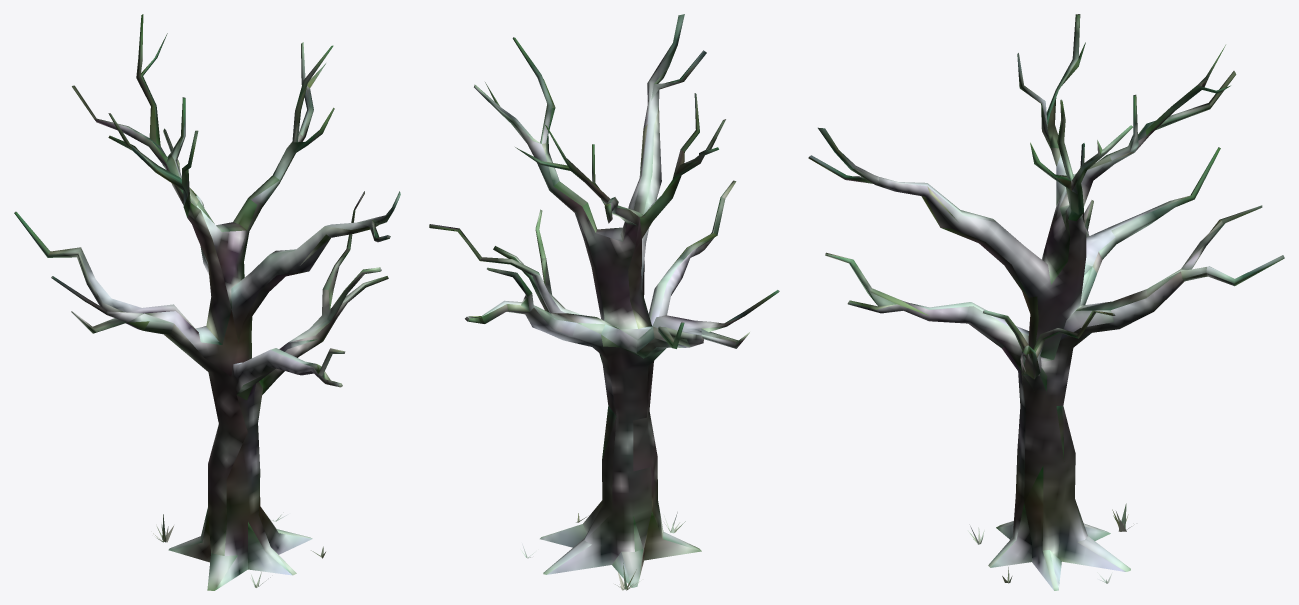
The model's file is world-tree-winter.glb.
3 renders of one model, left to right at view 1: azimuth 30°, elevation 25°; view 2: azimuth 150°, elevation 25°; view 3: azimuth 270°, elevation 25°, orthographic. The views are drawn at different scales.
Parts seen in each view (by area): view 1: model; view 2: model; view 3: model.
Part boxes in pixels (x1,y1,x2,y2): model: [14, 14, 400, 590]; model: [429, 14, 779, 590]; model: [808, 14, 1284, 590].
Bounding box in the file's own units: 2.51 × 3.57 × 3.06.
Materials: 1 (1 with a texture image).
